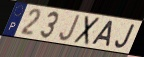2: (20, 8, 42, 37)
3: (39, 10, 60, 40)
A: (90, 20, 115, 48)
J: (58, 14, 81, 42), (114, 23, 136, 50)
X: (71, 15, 101, 47)
